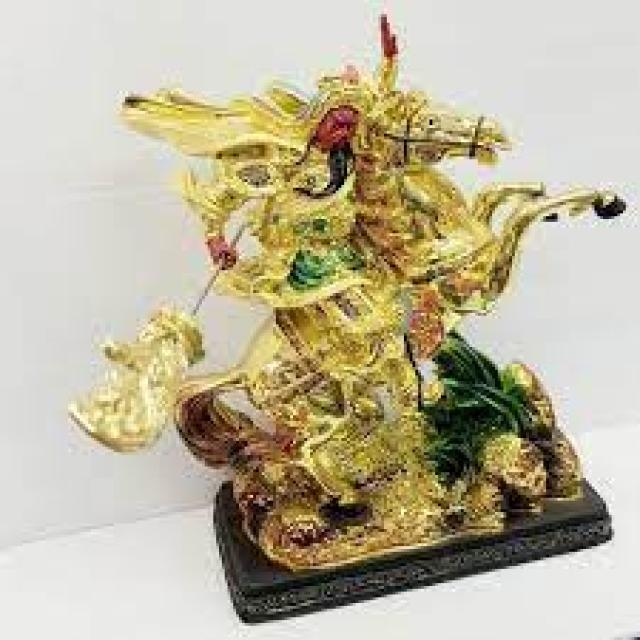Guan Yu: (251, 55, 374, 310)
